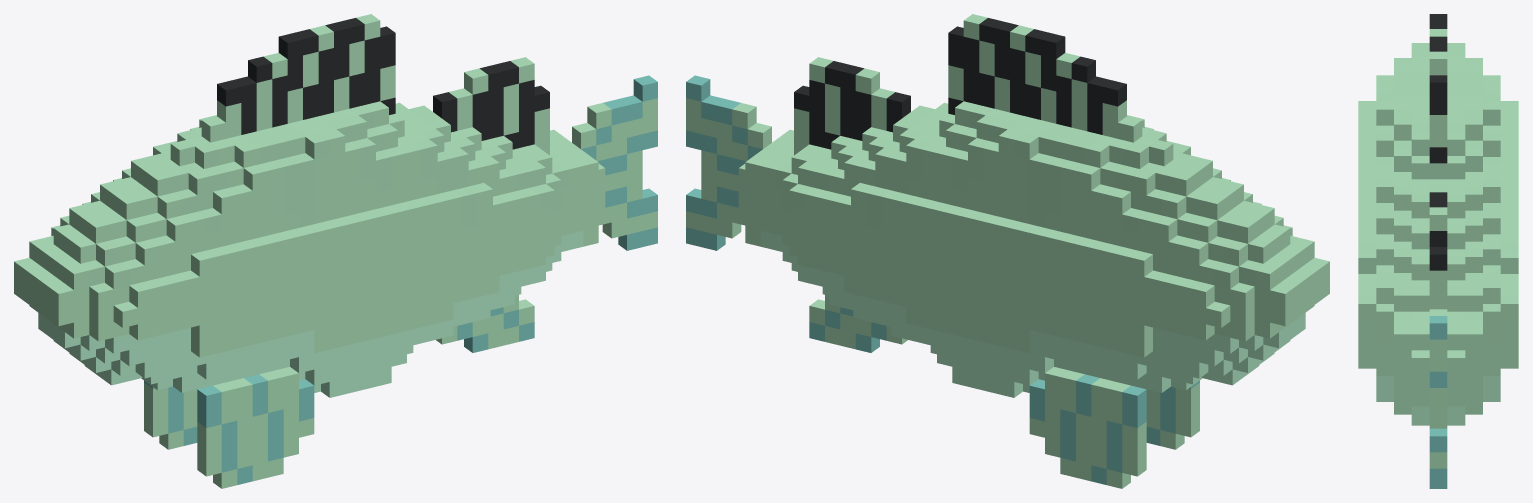
The model's file is Okun.obj.
The picture shows the model from 3 angles, left to right: view 1: azimuth 30°, elevation 25°; view 2: azimuth 150°, elevation 25°; view 3: azimuth 270°, elevation 25°; orthographic projection.
Bounding box in the file's own units: 4 × 2.5 × 0.9.
